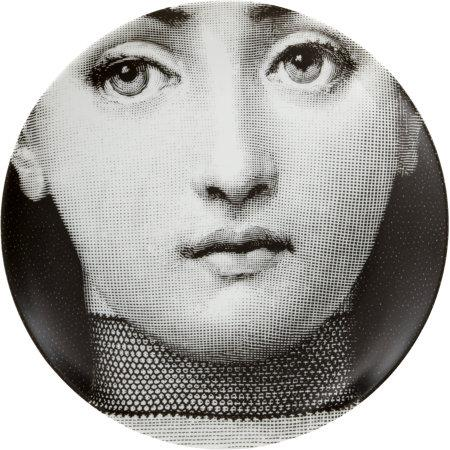person: (45, 14, 423, 406)
